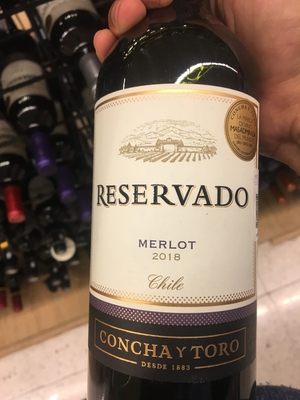reservado merlot: (78, 29, 278, 400)
